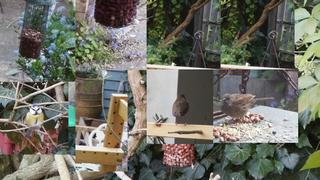blue tit: (24, 104, 44, 137)
dunnock: (220, 93, 274, 124)
robin: (172, 93, 189, 127)
